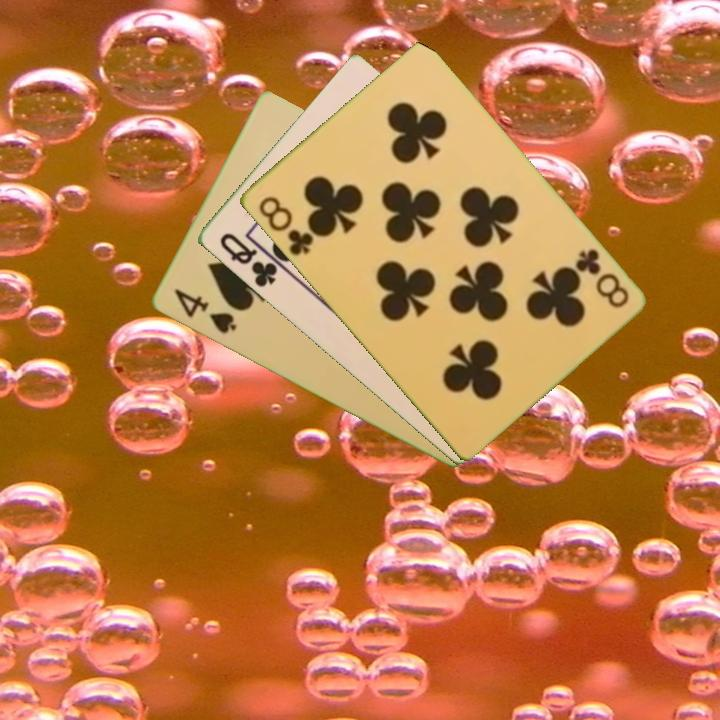4s: (170, 285, 239, 337)
8c: (254, 192, 316, 259), (570, 245, 631, 311)
Qc: (215, 229, 288, 291)
